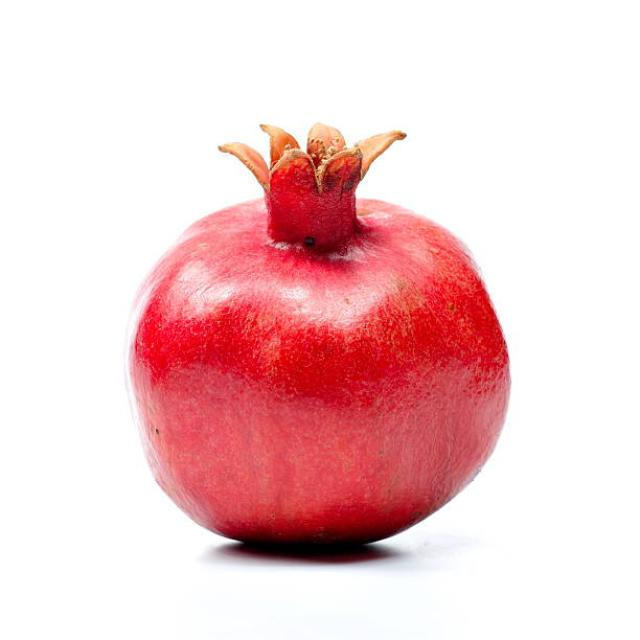Ripe: (120, 113, 514, 552)
